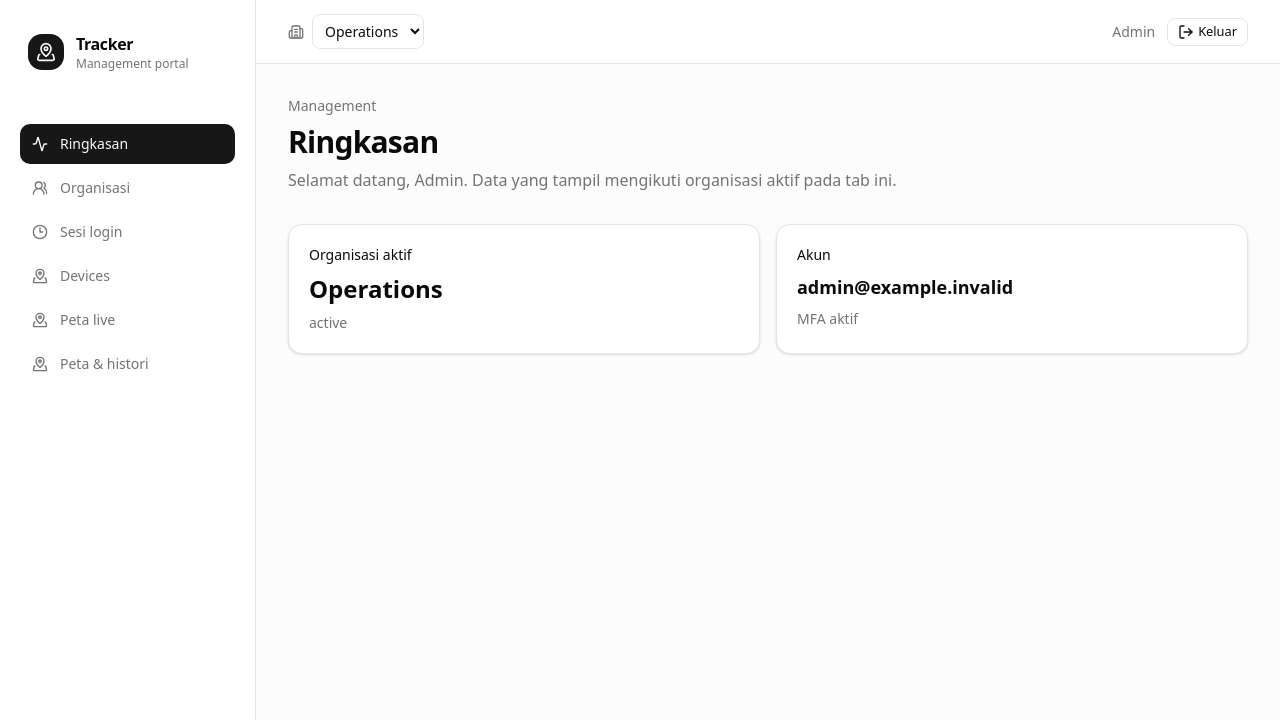
Test: platform organization management › switches the member list and request context with the active tenant
Click the link "Organisasi".
click(81, 188)  # box [32, 178, 130, 197]
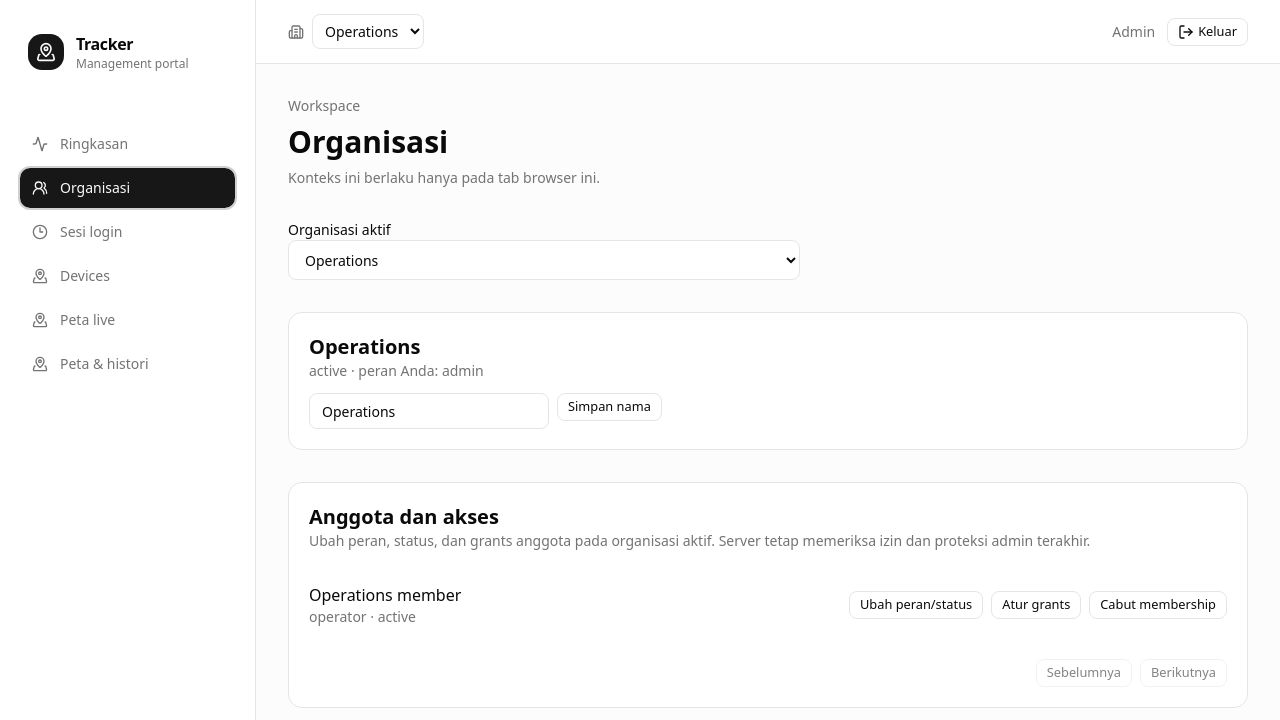
Check: the heading "Operations member" is shown, box [309, 583, 461, 607]
Select "Dispatch" in the dropdown labelled "Organisasi aktif" at {"x": 544, "y": 260}, box [288, 240, 800, 280]
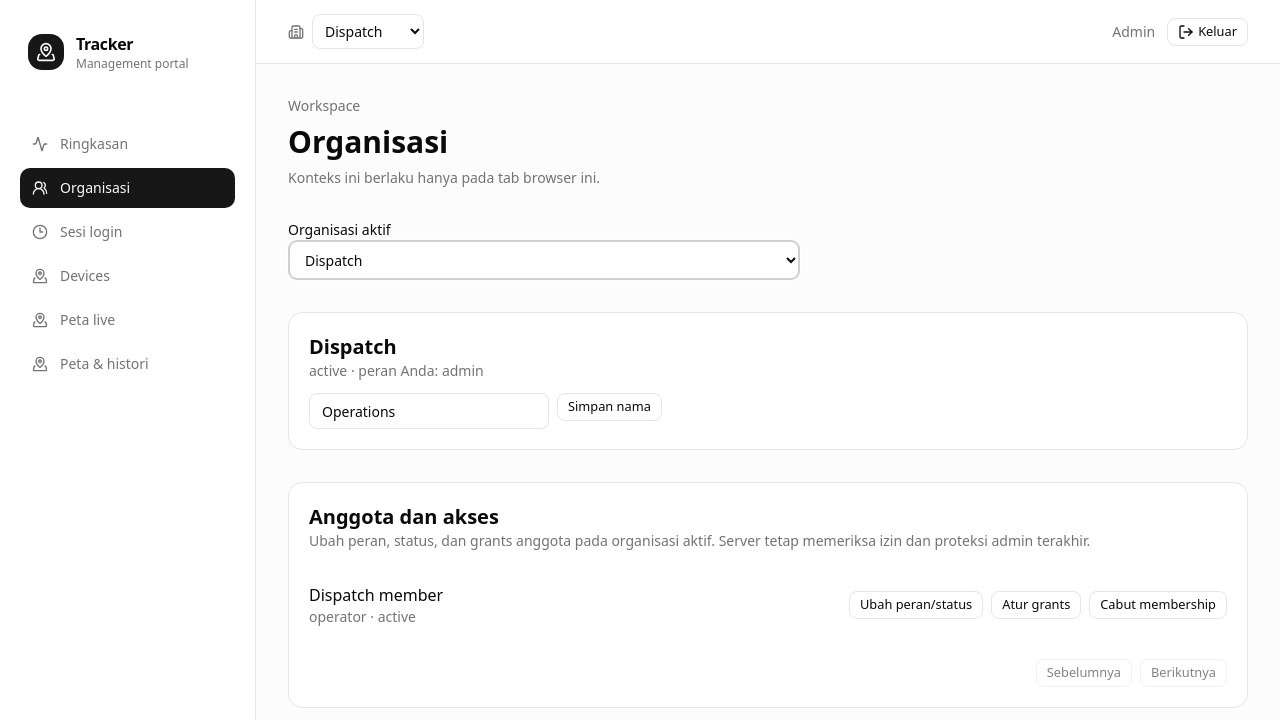
Check: the heading "Dispatch member" is shown, box [309, 583, 443, 607]
Check: the heading "Operations member" is gone
